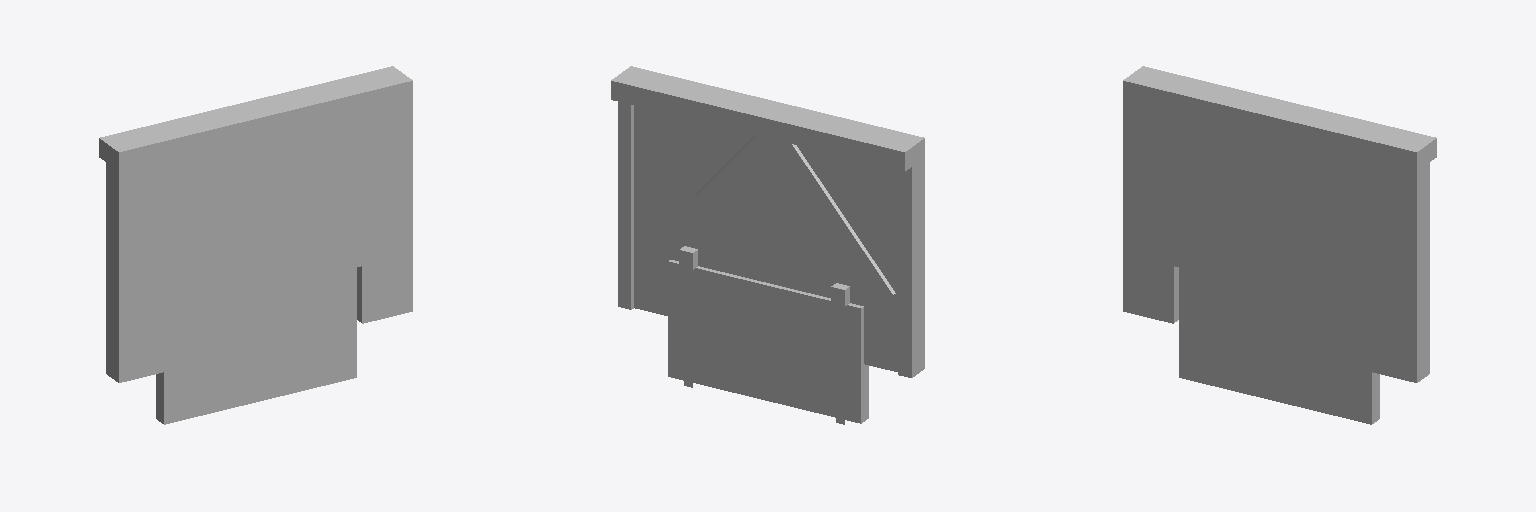
File: freight_c70_slab_top.obj
3 renders of one model, left to right at view 1: azimuth 30°, elevation 25°; view 2: azimuth 150°, elevation 25°; view 3: azimuth 330°, elevation 25°, orthographic.
Parts seen in each view (by area): view 1: cube; view 2: cube; view 3: cube.
Part boxes in pixels (x1,y1,x2,y2): cube: (99, 66, 412, 424); cube: (611, 66, 924, 424); cube: (1123, 66, 1436, 424).
Bounding box in the file's own units: 2 × 1.91 × 0.2344.